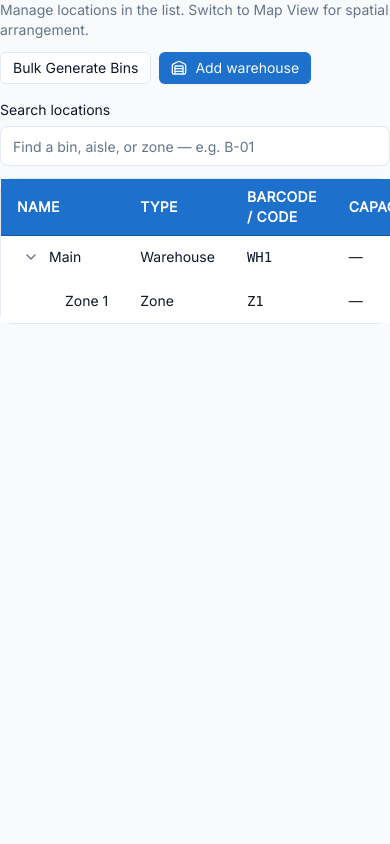
Test: WarehouseVisualizer › opens the bulk generate placeholder from list view
Click the button with test id "bulk-generate-bins": (76, 68) [0,52,151,84]
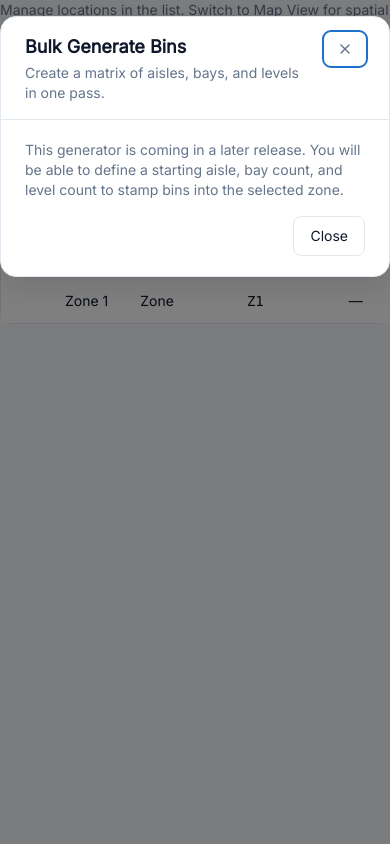
Check: the element with test id "bulk-generate-modal" is shown, box [25,140,365,256]
Check: the text "coming in a later release" is shown, box [25,141,360,198]
